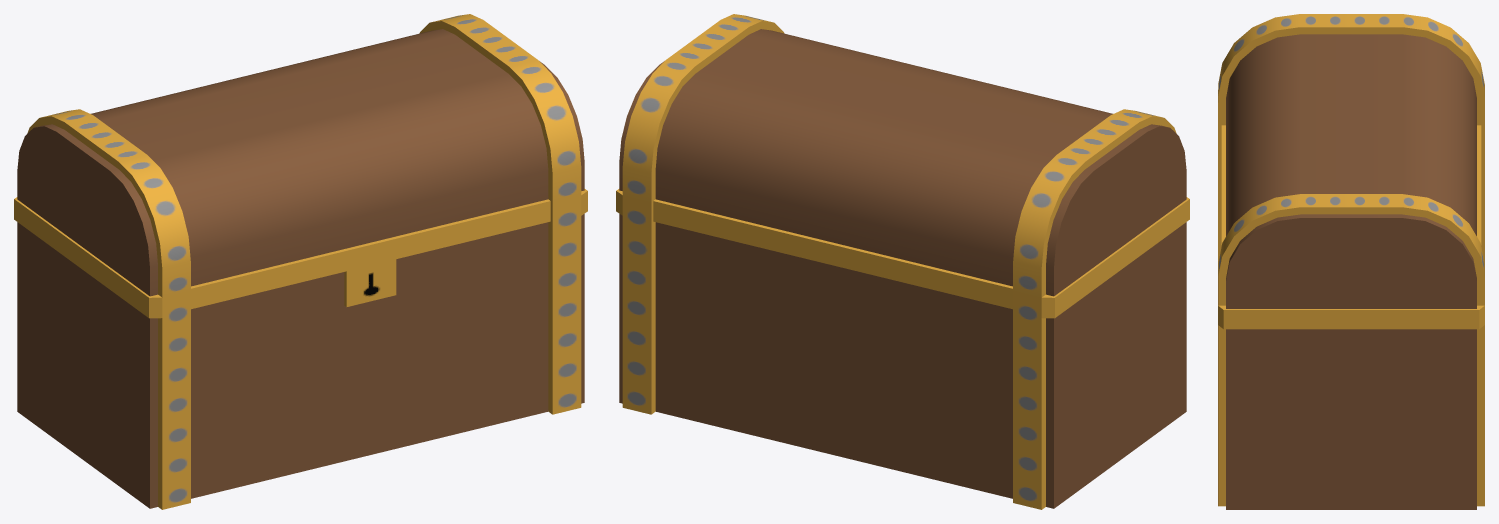
File: tressureBox.fbx
3 renders of one model, left to right at view 1: azimuth 30°, elevation 25°; view 2: azimuth 150°, elevation 25°; view 3: azimuth 270°, elevation 25°, orthographic. The views are drawn at different scales.
Visible parts, largest first — view 1: pCube2; view 2: pCube2; view 3: pCube2.
Part boxes in pixels (<box>): pCube2: <box>14,14,587,509</box>; pCube2: <box>616,14,1189,509</box>; pCube2: <box>1218,14,1484,509</box>.
Bounding box in the file's own units: 3.28 × 2.26 × 1.82.
1 material, 1 textured.
